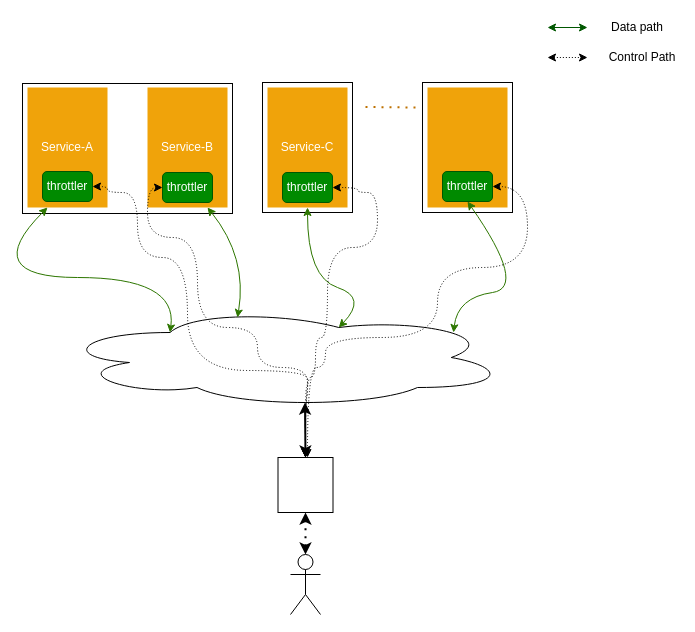
Some shapes in this 695 by 632 pixel diagram are drawn without their labels. Each missing label, with the box of its shape:
Controller: (277, 456, 333, 512)
Network: (56, 306, 508, 408)
Service-D: (427, 87, 507, 207)
